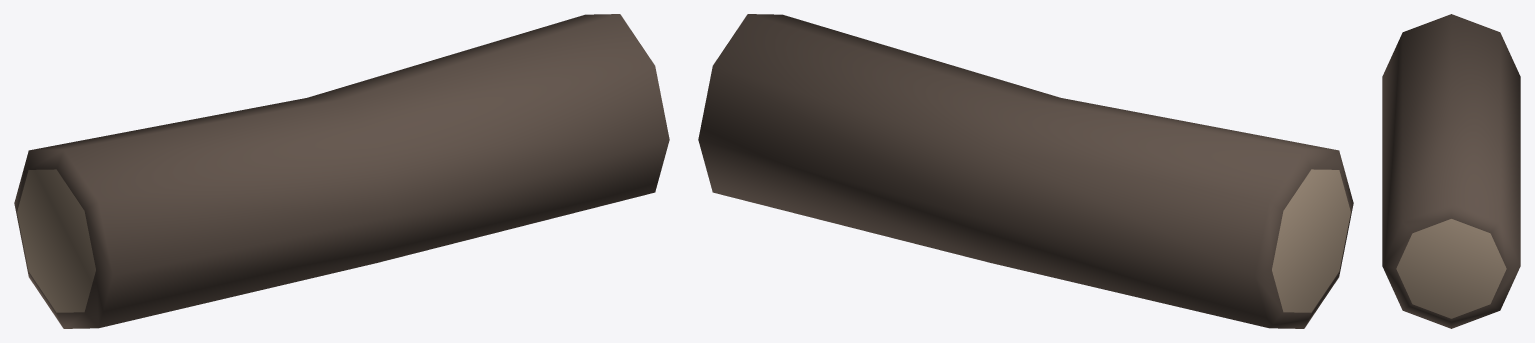
File: log.glb
3 renders of one model, left to right at view 1: azimuth 30°, elevation 25°; view 2: azimuth 150°, elevation 25°; view 3: azimuth 270°, elevation 25°, orthographic. The views are drawn at different scales.
Visible parts, largest first — view 1: log; view 2: log; view 3: log.
Part boxes in pixels (left/top/right/bottom): log: left=14, top=14, right=669, bottom=328; log: left=698, top=14, right=1353, bottom=328; log: left=1382, top=14, right=1520, bottom=328.
Bounding box in the file's own units: 0.68 × 0.204 × 0.204.
Materials: 1 (1 with a texture image).
